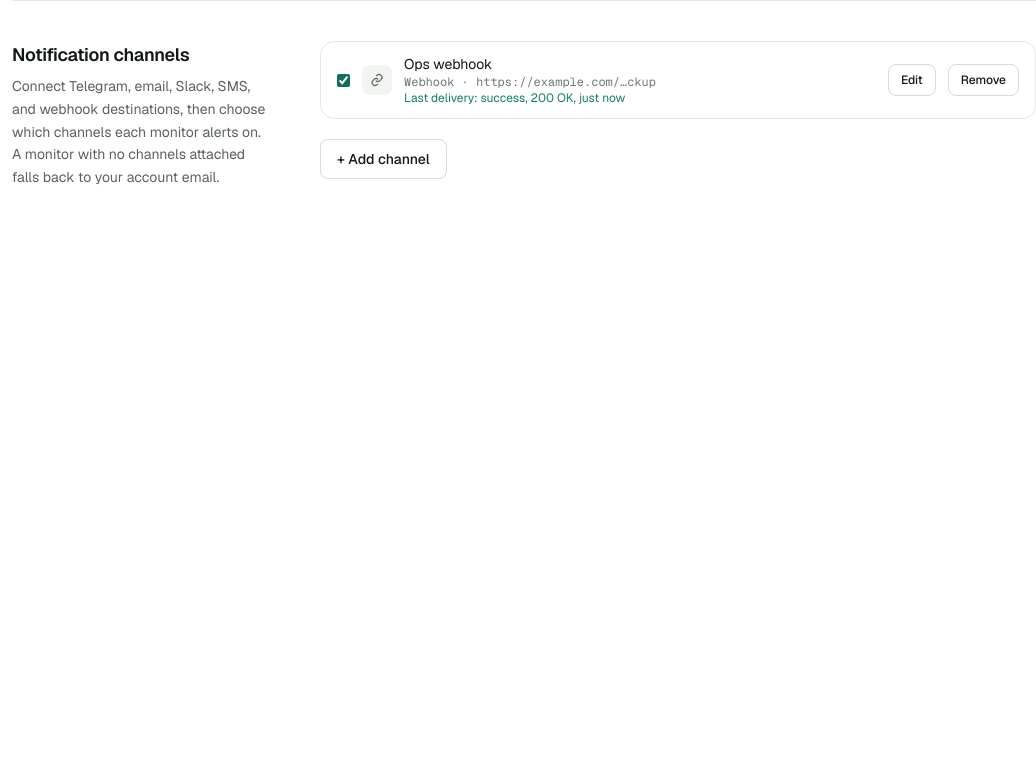
Test case: NotificationChannelsCard › shows an error when regenerating the secret fails
Click the button "Edit" at point(912, 80), box [888,64,936,96]
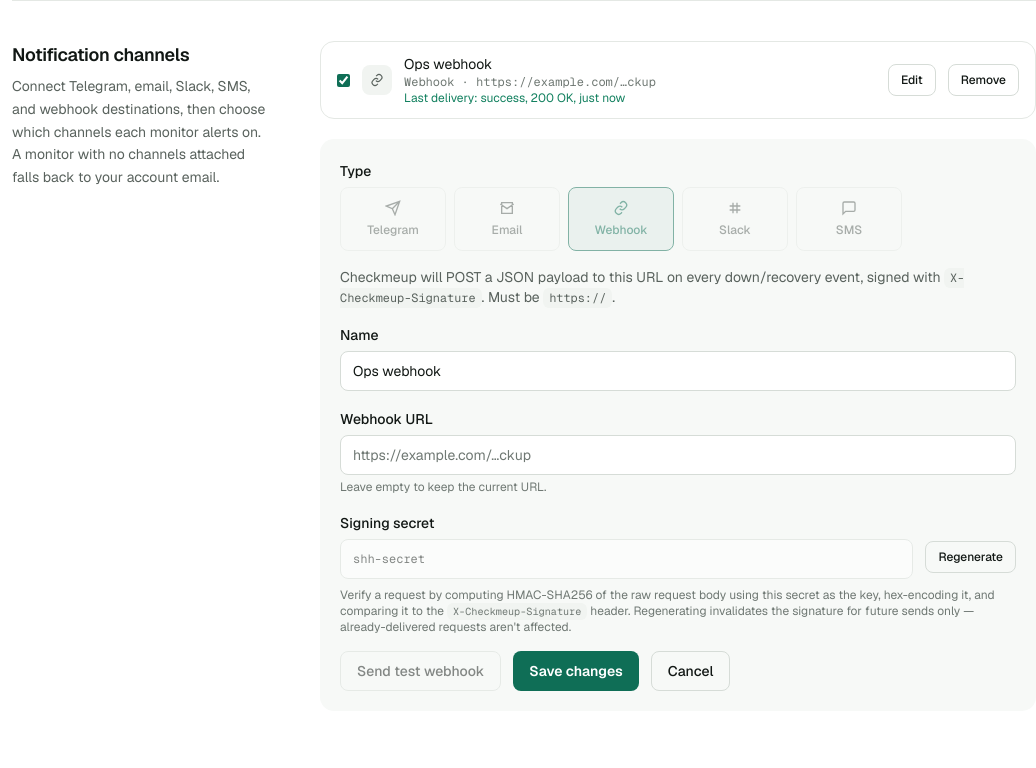
Click the button "Regenerate" at point(971, 557), box [925,541,1016,573]
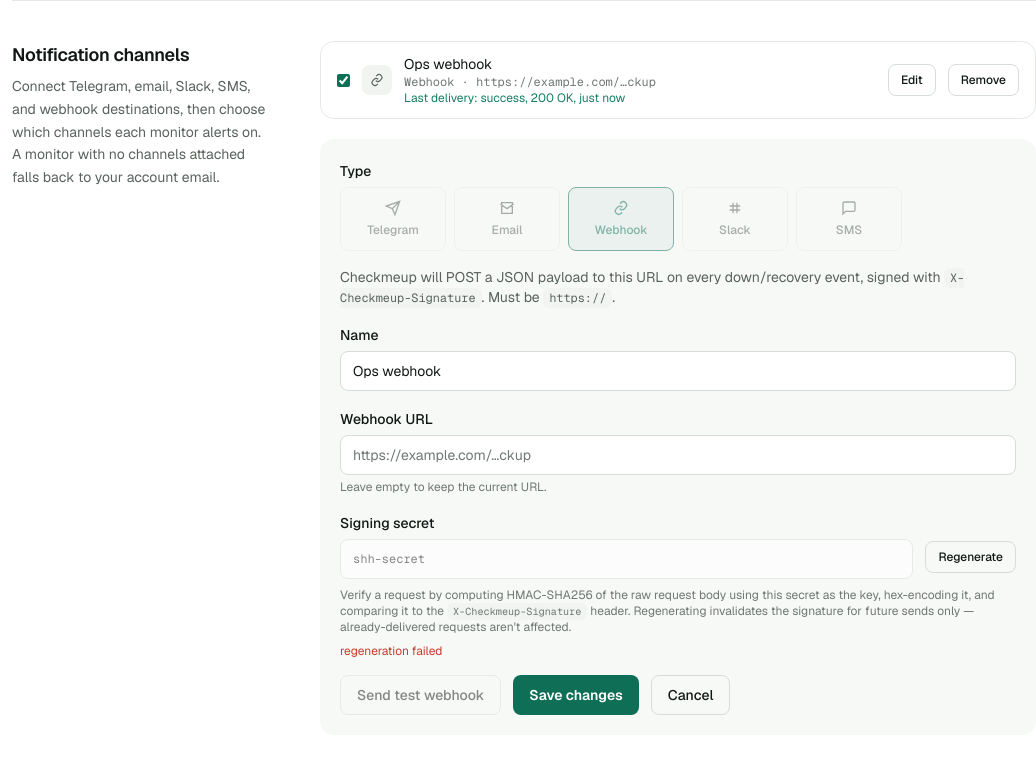
Now the text "regeneration failed" is shown, box [340,643,442,659]
